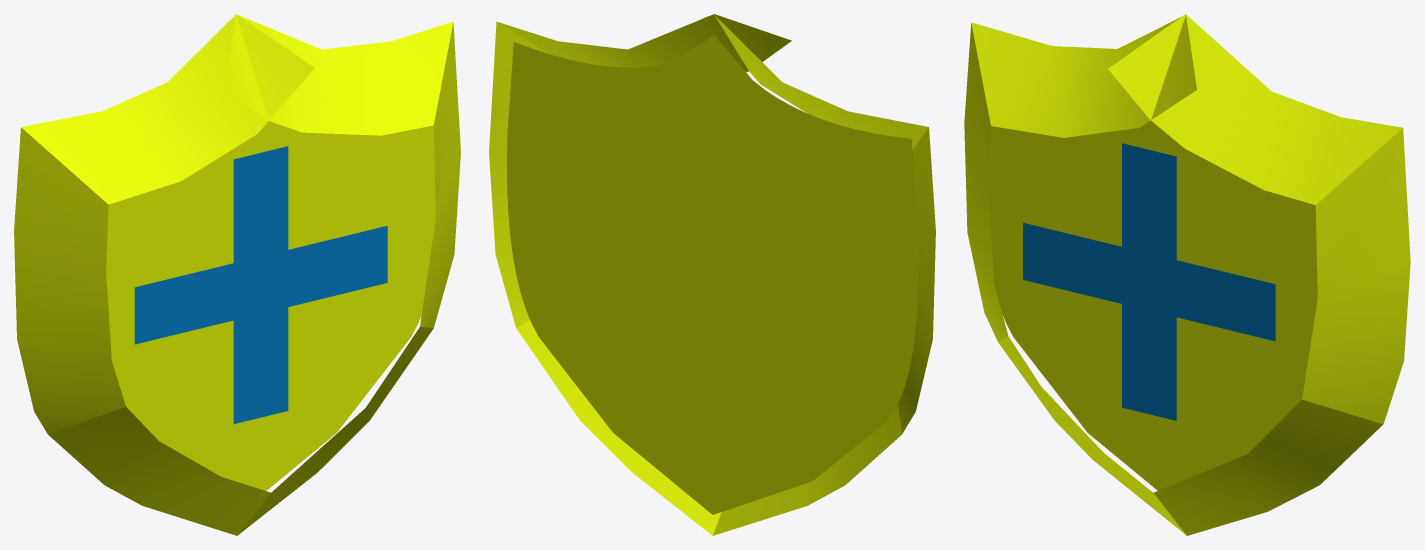
Rendered from Inmunidad.fbx.
3 renders of one model, left to right at view 1: azimuth 30°, elevation 25°; view 2: azimuth 150°, elevation 25°; view 3: azimuth 330°, elevation 25°, orthographic.
Parts seen in each view (by area): view 1: Line005, Line006, Group002, Plane004; view 2: Line006, Line005; view 3: Line005, Line006, Plane004, Group002.
Boxes of the visible parts, x1=… form: Line005: x1=14, y1=14, x2=460, y2=535; Line006: x1=106, y1=121, x2=435, y2=490; Group002: x1=233, y1=146, x2=288, y2=423; Plane004: x1=134, y1=225, x2=387, y2=344; Line006: x1=507, y1=35, x2=918, y2=514; Line005: x1=489, y1=14, x2=935, y2=535; Line005: x1=964, y1=14, x2=1410, y2=535; Line006: x1=988, y1=120, x2=1317, y2=490; Plane004: x1=1023, y1=222, x2=1275, y2=341; Group002: x1=1122, y1=143, x2=1176, y2=420.
Bounding box in the file's own units: 0.7606 × 0.8494 × 0.1.
